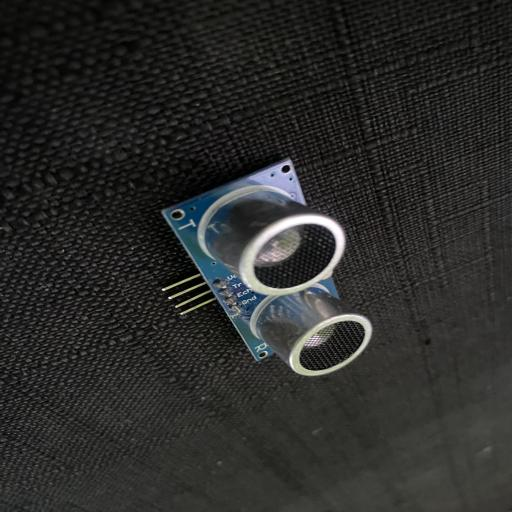Ultrasonic Sensor: (158, 156, 374, 377)
